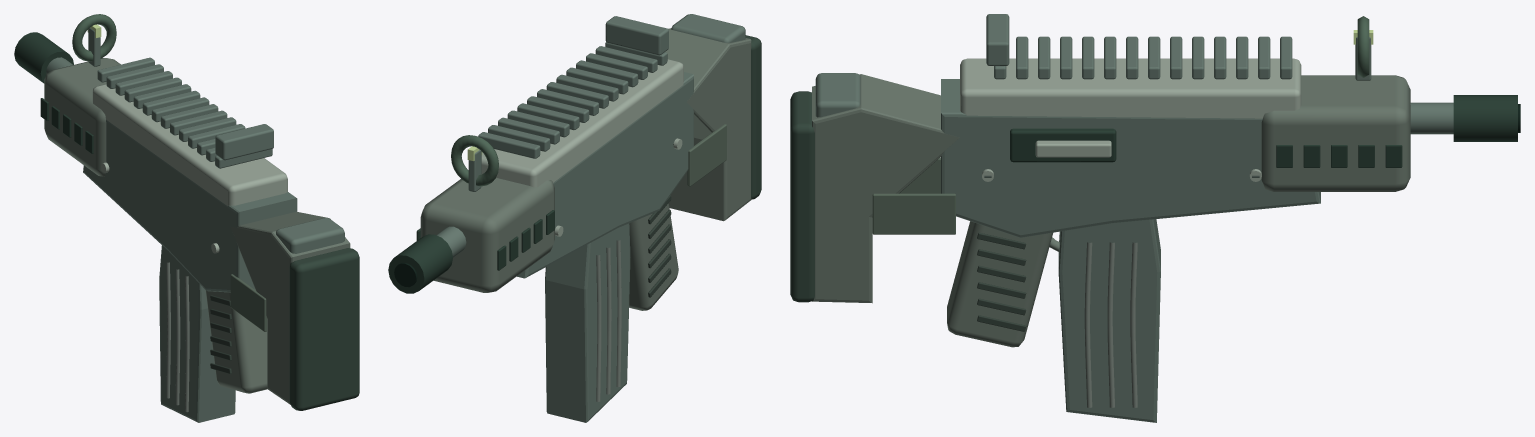
The model's file is mag7.glb.
3 views of the same model, side by side, from view 1: azimuth 30°, elevation 25°; view 2: azimuth 150°, elevation 25°; view 3: azimuth 270°, elevation 25° (orthographic). The views are drawn at different scales.
Parts seen in each view (by area): view 1: mag7, magazine; view 2: mag7, magazine; view 3: mag7, magazine, bolt.
Part boxes in pixels (<box>): mag7: <box>14,14,359,410</box>; magazine: <box>159,245,235,422</box>; mag7: <box>388,14,761,310</box>; magazine: <box>545,223,630,422</box>; mag7: <box>790,14,1520,347</box>; magazine: <box>1058,219,1160,422</box>; bolt: <box>1010,128,1116,162</box>.
Bounding box in the file's own units: 0.1485 × 0.5724 × 0.9625.
